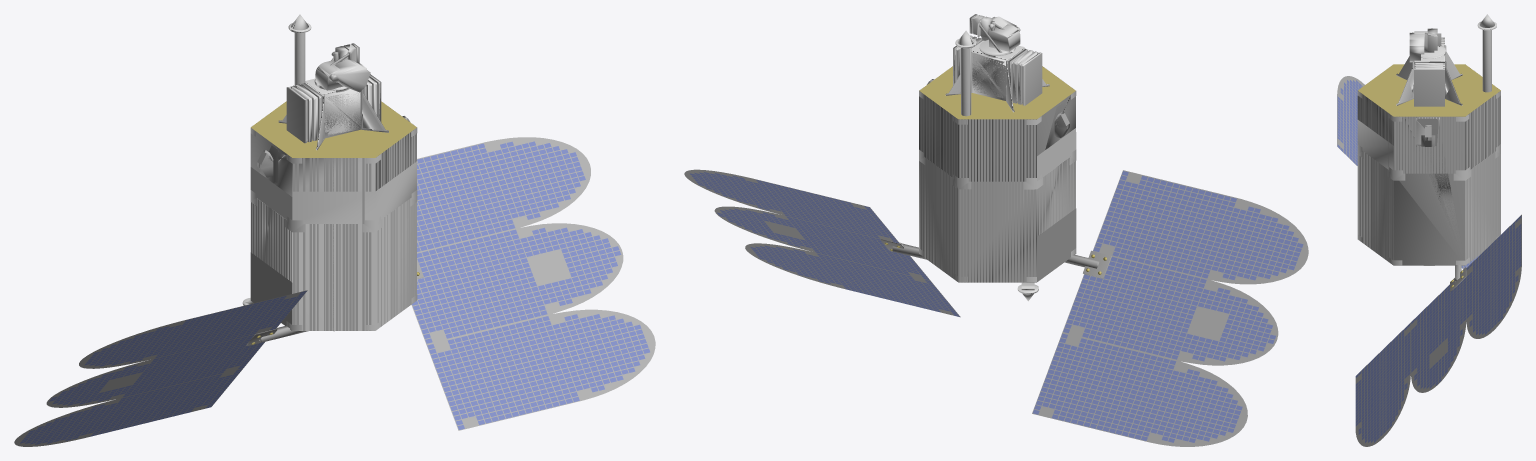
File: total-ozone-mapping-spectrometer-toms.glb
The picture shows the model from 3 angles, left to right: view 1: azimuth 30°, elevation 25°; view 2: azimuth 150°, elevation 25°; view 3: azimuth 270°, elevation 25°; orthographic projection. The views are drawn at different scales.
Visible parts, largest first — view 1: Fake; view 2: Fake; view 3: Fake.
Part boxes in pixels (x1,y1,x2,y2): Fake: (14, 14, 655, 446); Fake: (684, 14, 1308, 446); Fake: (1337, 14, 1521, 446).
Bounding box in the file's own units: 38.92 × 24.22 × 12.37.
